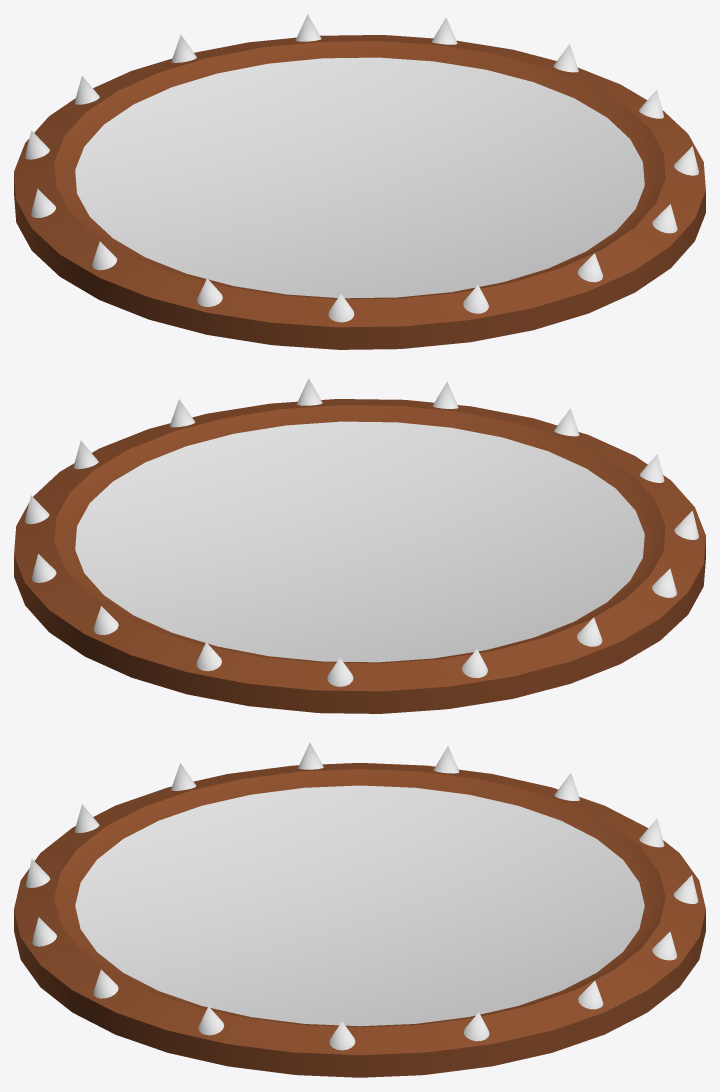
File: shield.fbx
3 renders of one model, top to bottom at view 1: azimuth 30°, elevation 25°; view 2: azimuth 150°, elevation 25°; view 3: azimuth 270°, elevation 25°, orthographic.
Parts seen in each view (by area): view 1: Circle, Cone; view 2: Circle, Cone; view 3: Circle, Cone.
Boxes of the visible parts, x1,y1,x2,y2 form: Circle: (14,35,705,349); Cone: (25,14,698,322); Circle: (14,399,705,713); Cone: (24,378,698,686); Circle: (14,763,705,1077); Cone: (25,742,698,1050).
Size of the model in its own units: 119 by 14.65 by 119.
